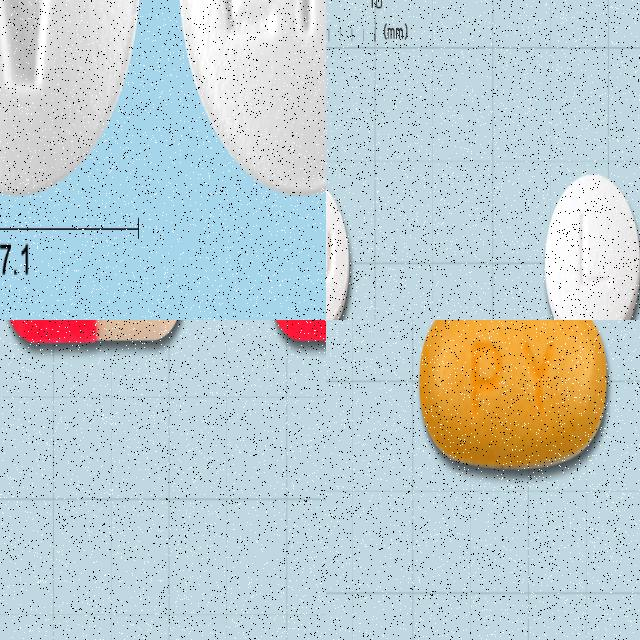Leflu - 20mg: (176, 0, 326, 197), (0, 0, 142, 194)
Levofloxacin: (545, 173, 640, 320)
Minocin Cap: (4, 320, 184, 345)
Pilocin Tab: (419, 320, 608, 469)
